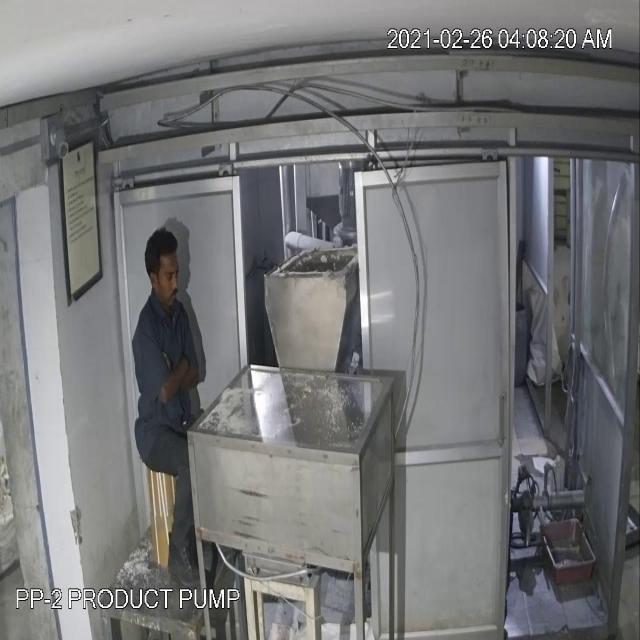no hat: (138, 216, 188, 279)
